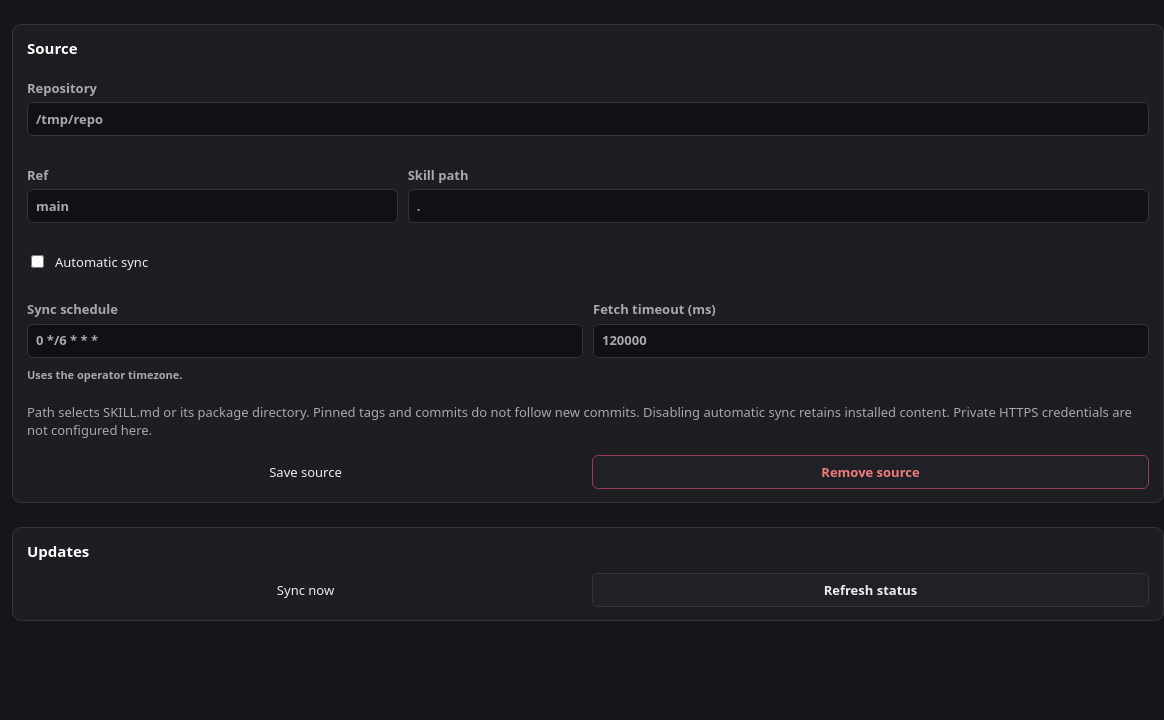
Test: keeps request timeout distinct from terminal sync failure
This screenshot has width=1164, height=720.
Click the button "Sync now" at (306, 590), box [27,573,584,607]
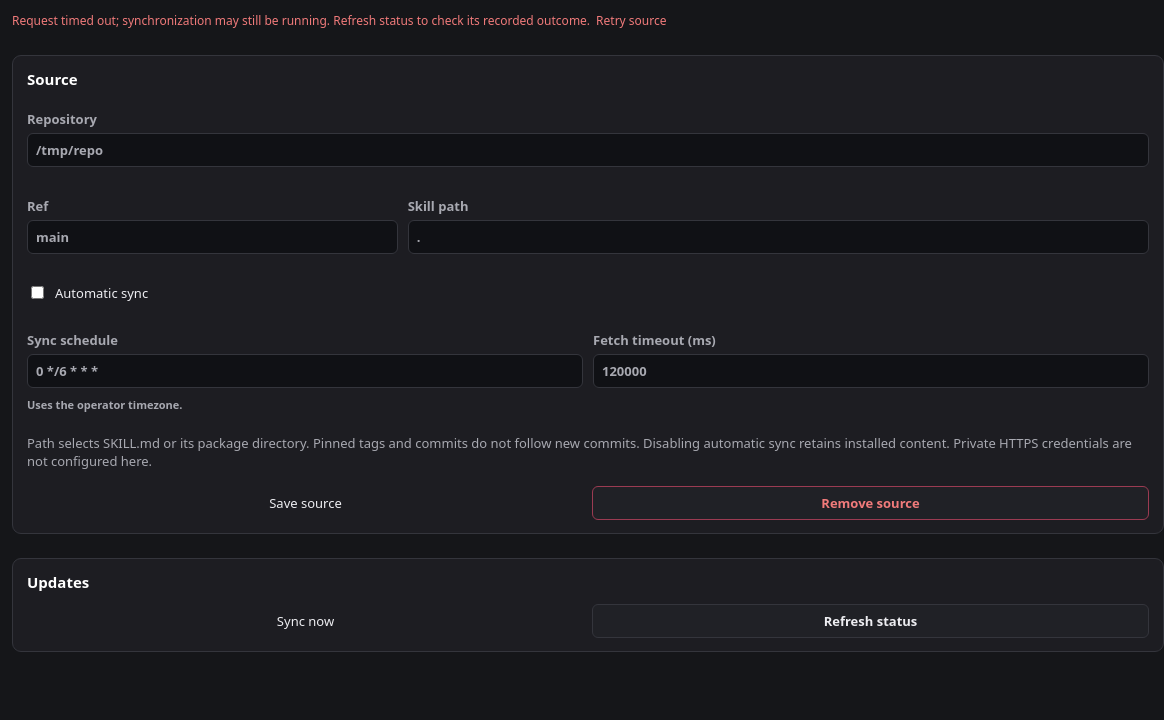
Result: the message shows "may still be running" at [12,12,590,29]
